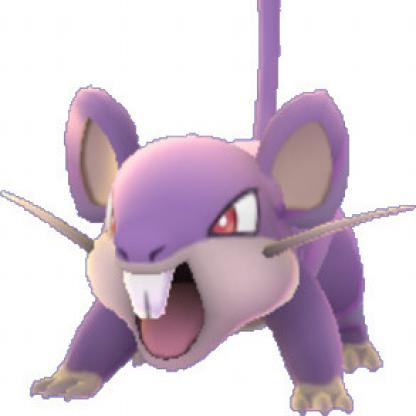Rattata: (39, 1, 409, 416)
